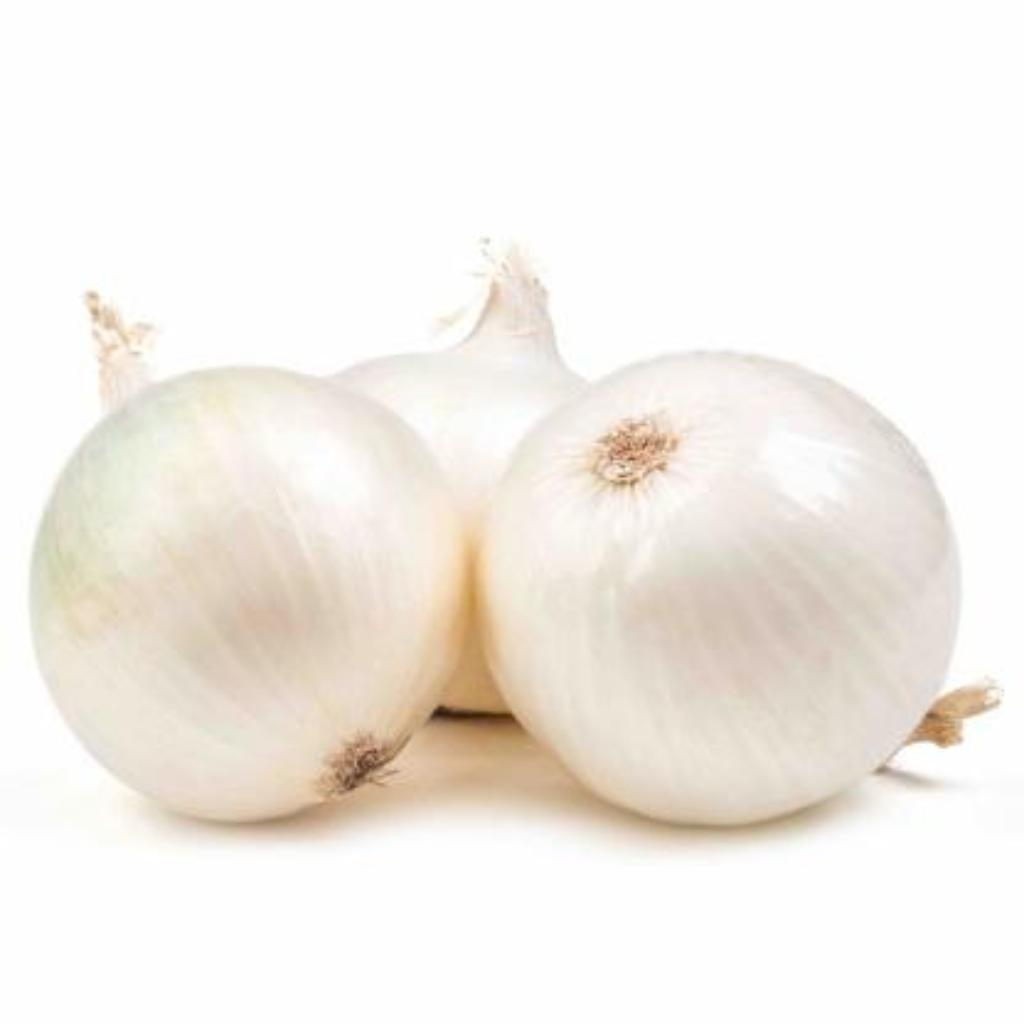Onion: (485, 354, 960, 826), (30, 369, 463, 823), (335, 251, 588, 565)
